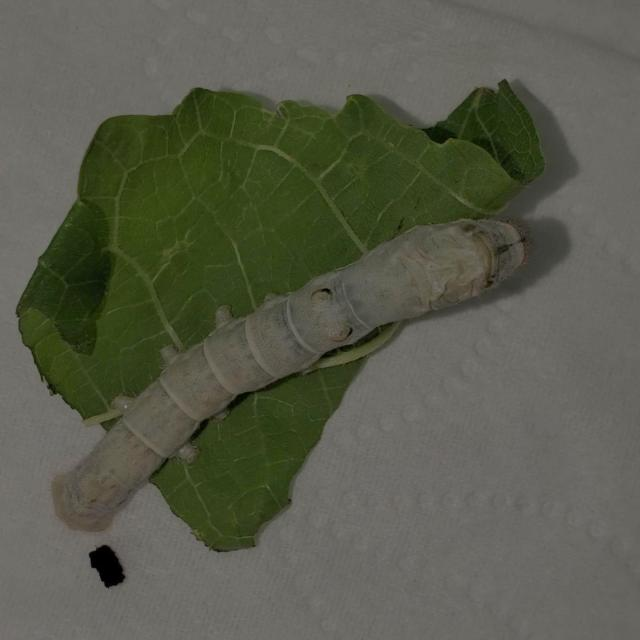Healthy: (32, 210, 537, 539)
